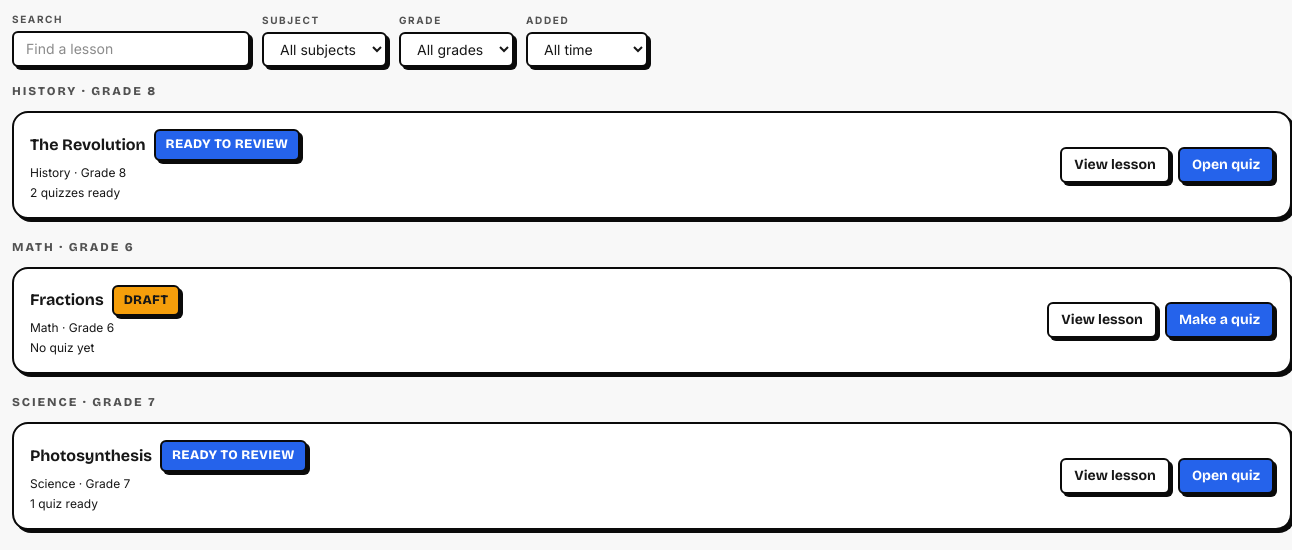
Test: LessonLibrary › the Grade filter narrows the list
Select "Grade 8" in the dropdown labelled "Grade" at (456, 50), box [399, 32, 514, 67]
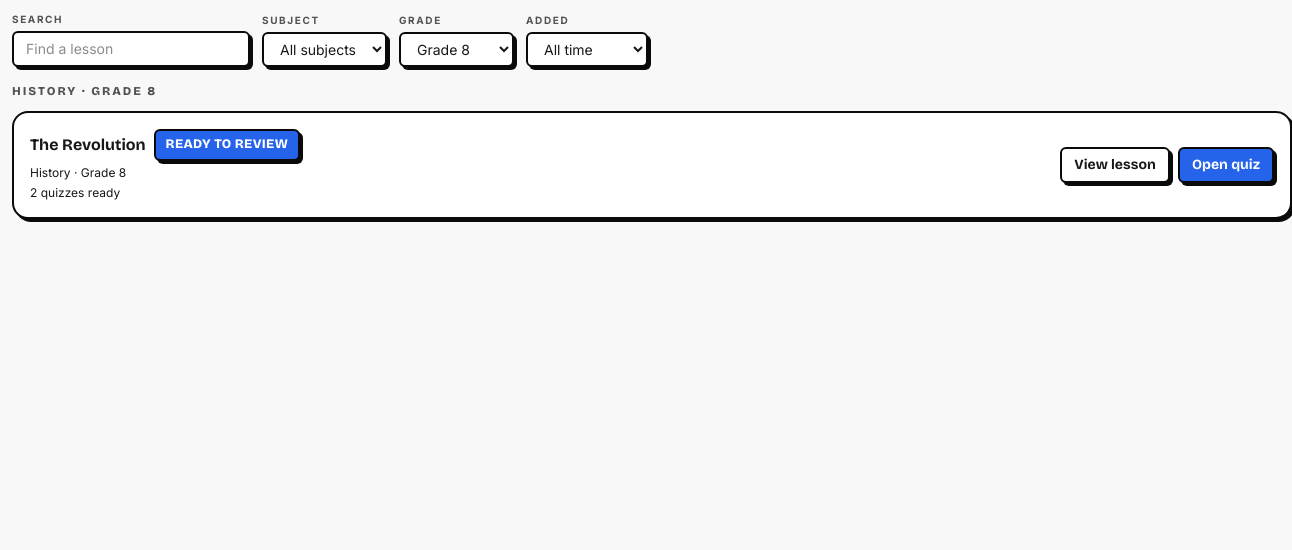
Expected: the heading "The Revolution" is shown, [30, 133, 146, 157]
Now the heading "Photosynthesis" is gone
